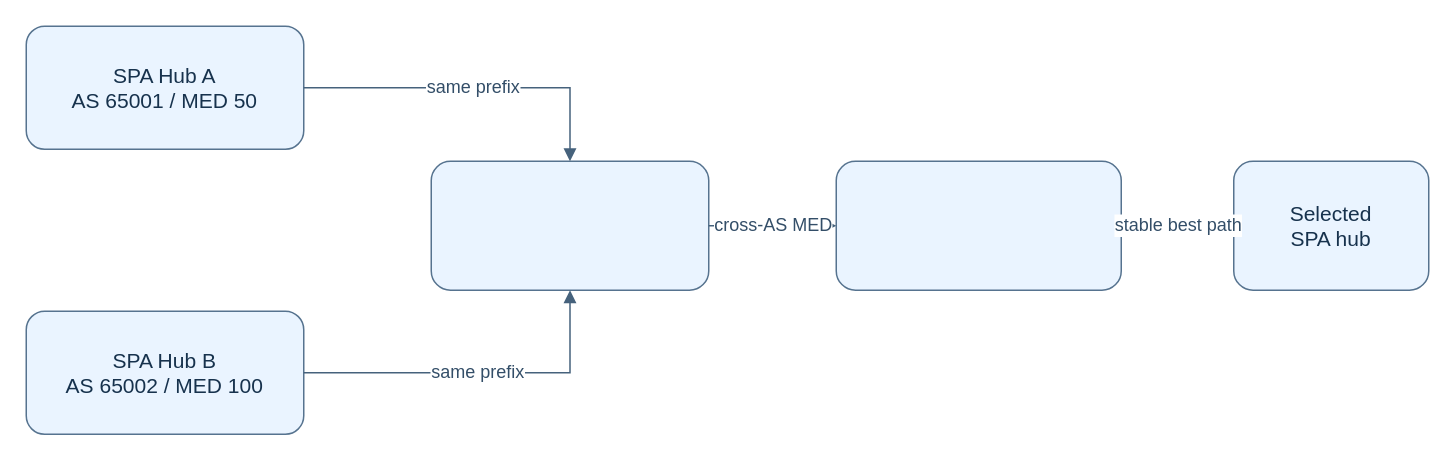
This 1455x461 diagram has some shape labels left out. The shapes that lost their labels are listed below. From the top down, each one's centre as x and y in pixels, then its label:
At point (569, 225): "FortiSASE PoP BGP best-path".
At point (978, 225): "Always Compare MED Deterministic MED".
